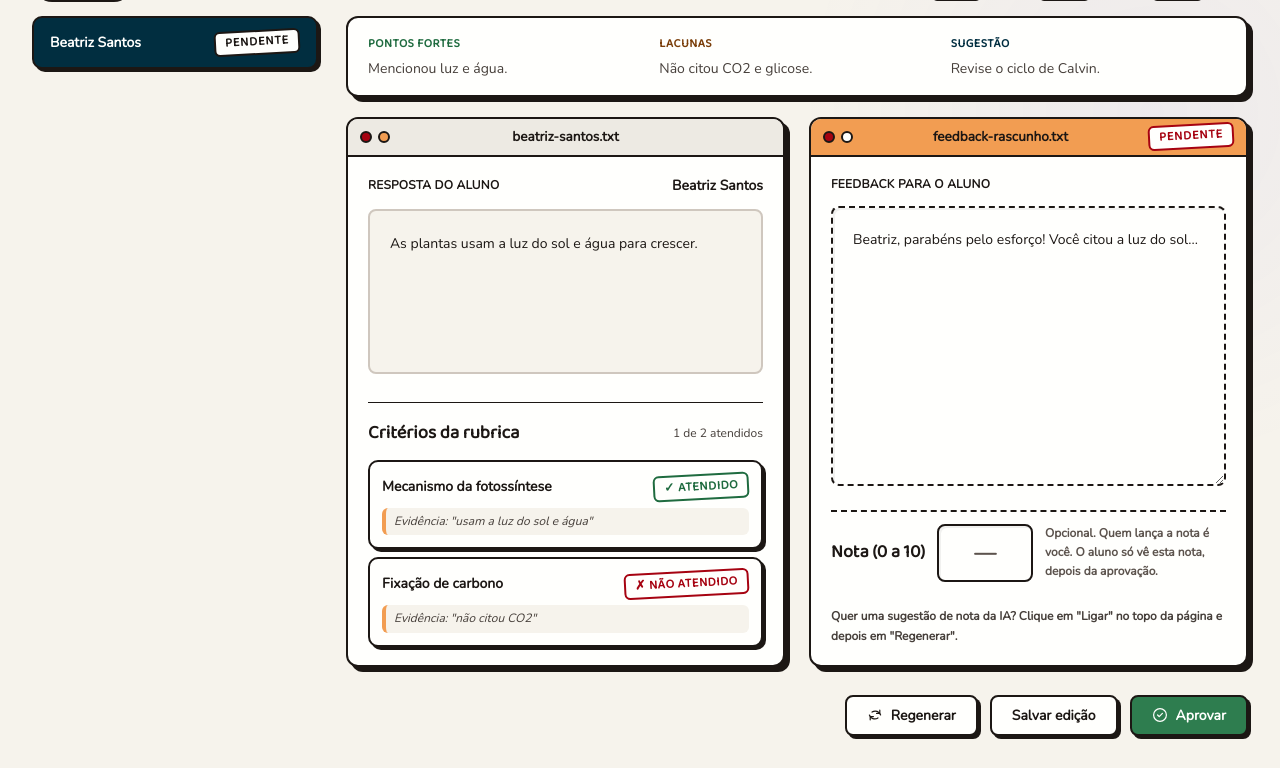
Test: ReviewDashboard — Nota do professor e questão objetiva › recusa nota fora de 0 a 10
The width and height of the screenshot is (1280, 768).
(page scrolled)
Type "12" into the field labelled "Nota (0 a 10)". click: (985, 553)
box: 937,524 -> 1033,582
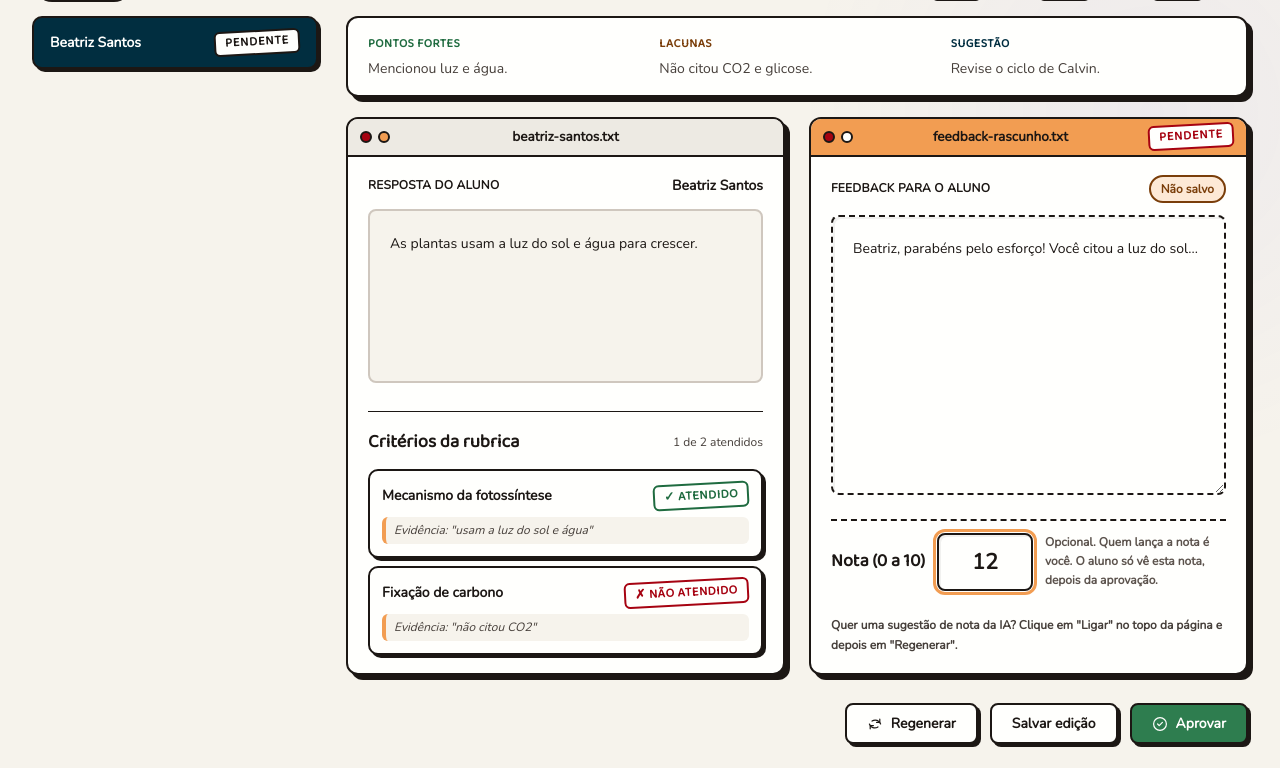
Click the button "Salvar edição". click: (1054, 724)
box: 990,703 -> 1118,744
(page scrolled)
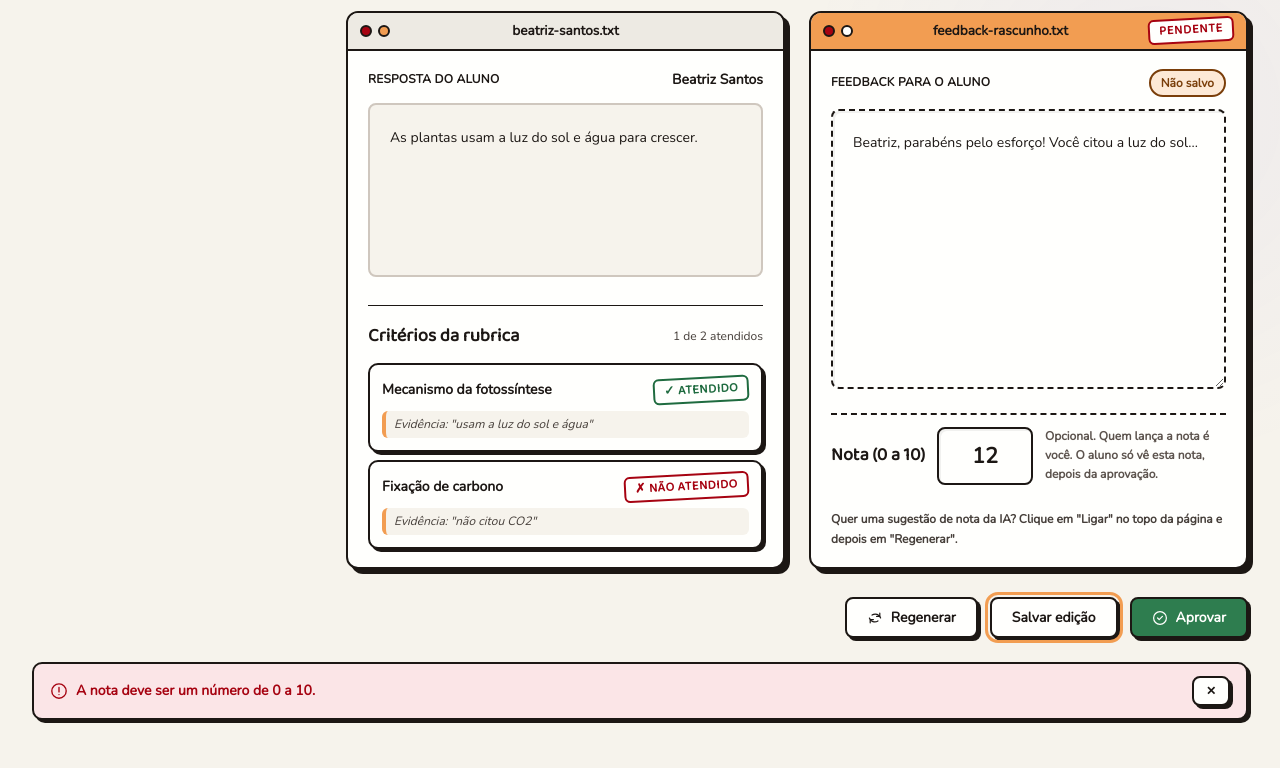
Expected: the text "A nota deve ser um número de 0 a 10." is shown, 76,681 -> 315,700
